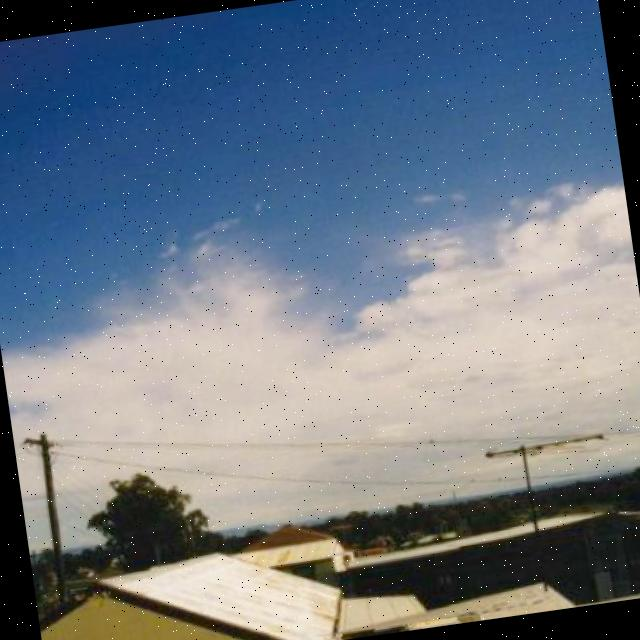Cs: (1, 106, 640, 464)
